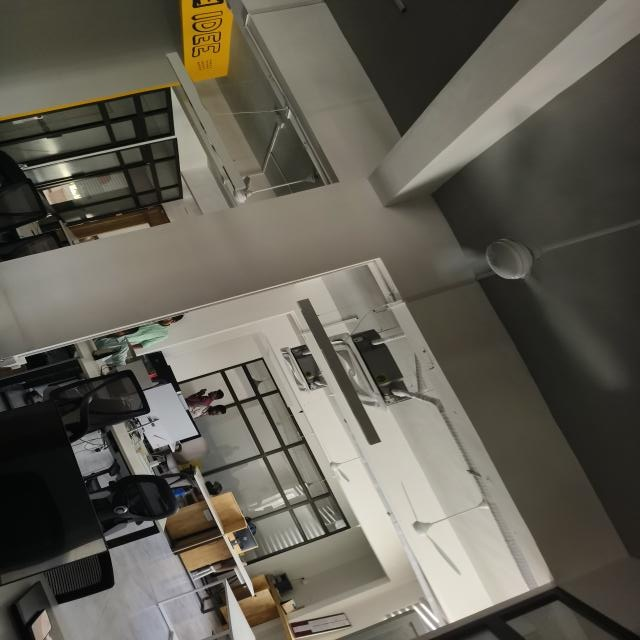fluorescent tube: (288, 297, 388, 451), (162, 48, 253, 196)
